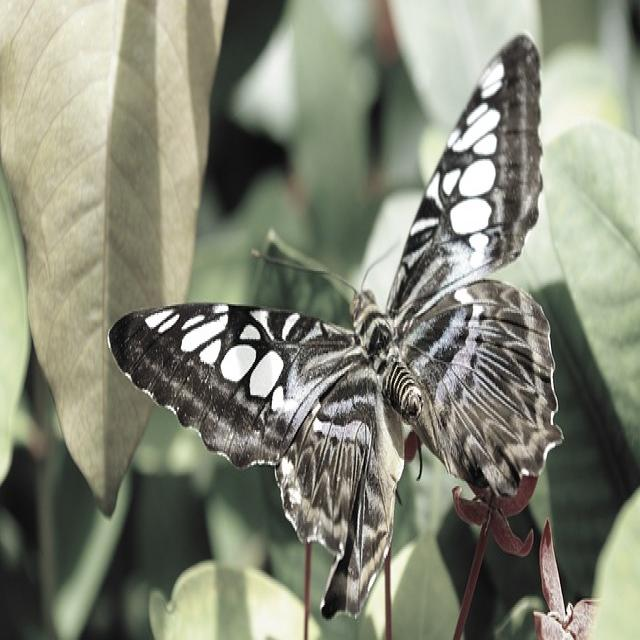butterfly: (108, 35, 564, 640)
